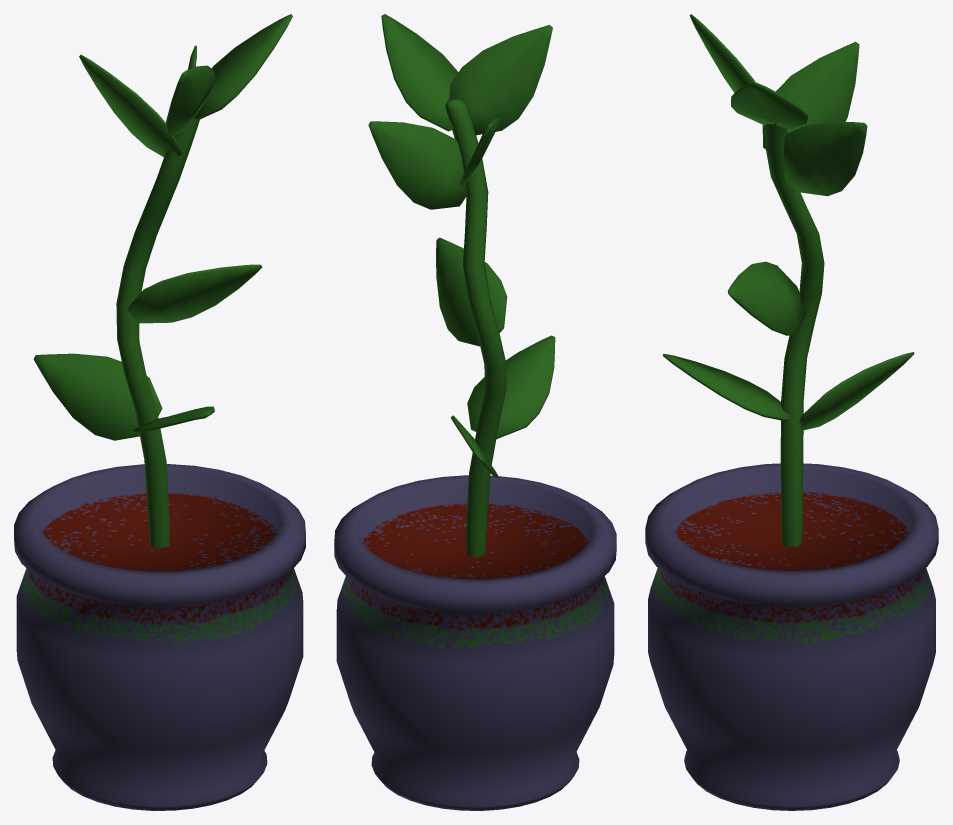
Rendered from Gorshok.fbx.
3 views of the same model, side by side, from view 1: azimuth 30°, elevation 25°; view 2: azimuth 150°, elevation 25°; view 3: azimuth 270°, elevation 25° (orthographic). The views are drawn at different scales.
Visible parts, largest first — view 1: Cylinder.001; view 2: Cylinder.001; view 3: Cylinder.001.
Boxes of the visible parts, box(x1,y1,x2,y2) form: Cylinder.001: box(14, 14, 305, 810); Cylinder.001: box(334, 14, 616, 810); Cylinder.001: box(645, 14, 938, 810).
Bounding box in the file's own units: 292 × 813 × 292.
